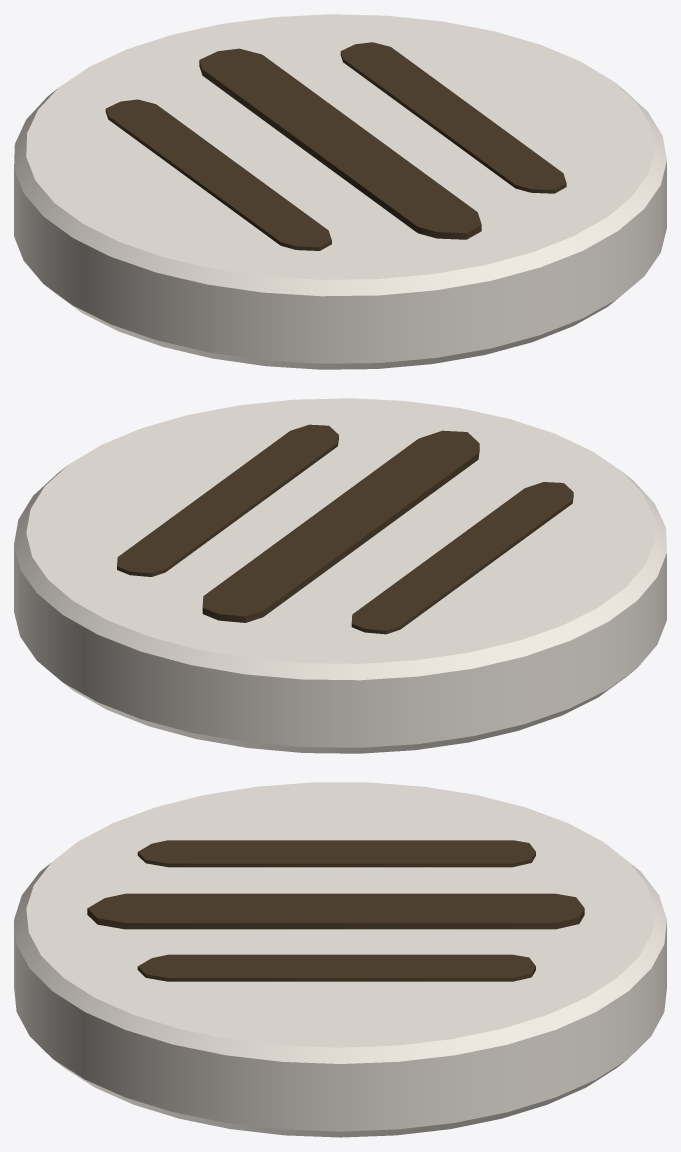
Rendered from Arepa.fbx.
3 views of the same model, one above another, from view 1: azimuth 30°, elevation 25°; view 2: azimuth 150°, elevation 25°; view 3: azimuth 270°, elevation 25° (orthographic).
Visible parts, largest first — view 1: Cylinder, Cube_5; view 2: Cylinder, Cube_5; view 3: Cylinder, Cube_5.
Part boxes in pixels (box(x1,y1,x2,y2)): Cylinder: box(14, 14, 666, 369); Cube_5: box(105, 42, 566, 250); Cylinder: box(14, 398, 666, 753); Cube_5: box(117, 424, 573, 634); Cylinder: box(14, 782, 666, 1137); Cube_5: box(87, 840, 584, 981).
Size of the model in its own units: 85.06 by 14.99 by 85.15.
